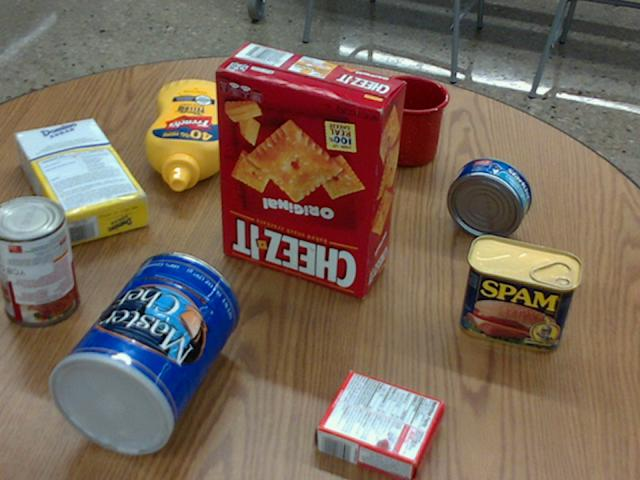cracker_box: (215, 42, 405, 296)
gelatin_box: (315, 370, 444, 479)
large_marker: (285, 99, 327, 155)
master_chef_can: (49, 251, 239, 455)
mug: (366, 75, 448, 166)
mustard_bottle: (144, 80, 236, 190)
potted_meat_can: (459, 235, 582, 351)
sugar_box: (13, 114, 148, 247)
tomato_soup_can: (0, 194, 78, 325)
tuna_fish_can: (446, 157, 530, 239)
